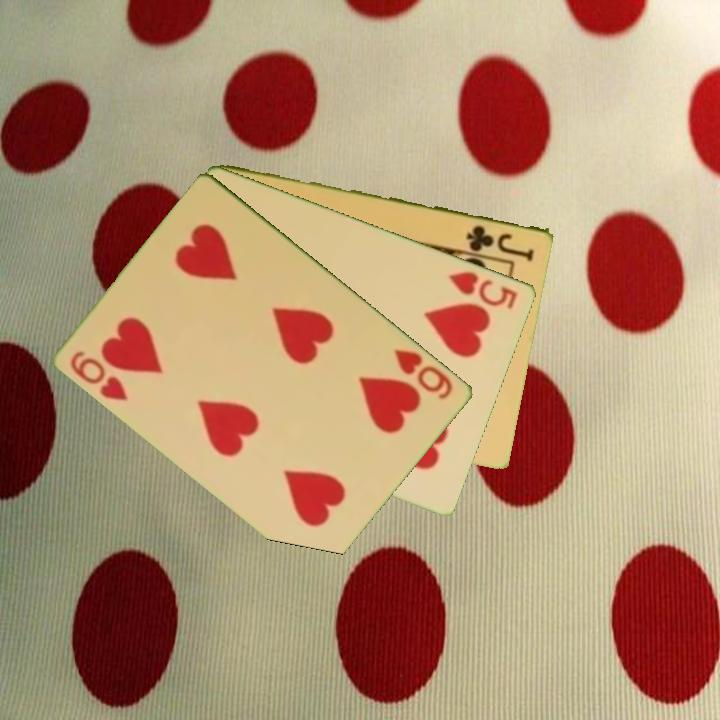5h: (445, 267, 521, 312)
6h: (391, 345, 456, 402), (67, 347, 132, 404)
Jc: (463, 221, 538, 263)
